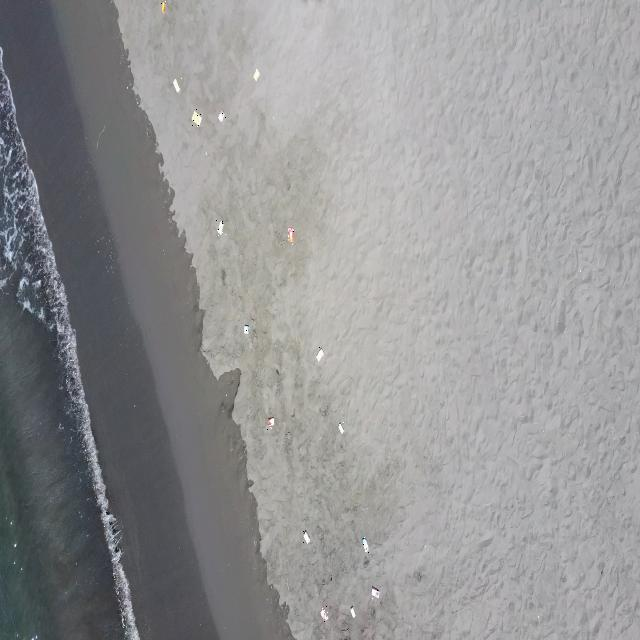retort-pouch: (191, 109, 201, 127), (361, 536, 370, 554), (320, 606, 330, 622), (216, 220, 226, 236), (172, 78, 182, 94), (217, 107, 226, 124), (287, 226, 295, 245), (302, 530, 311, 546), (316, 346, 324, 364), (371, 585, 380, 600), (253, 67, 261, 83), (267, 415, 275, 430), (337, 421, 345, 435), (243, 323, 250, 337), (160, 0, 166, 14), (350, 604, 356, 618)
